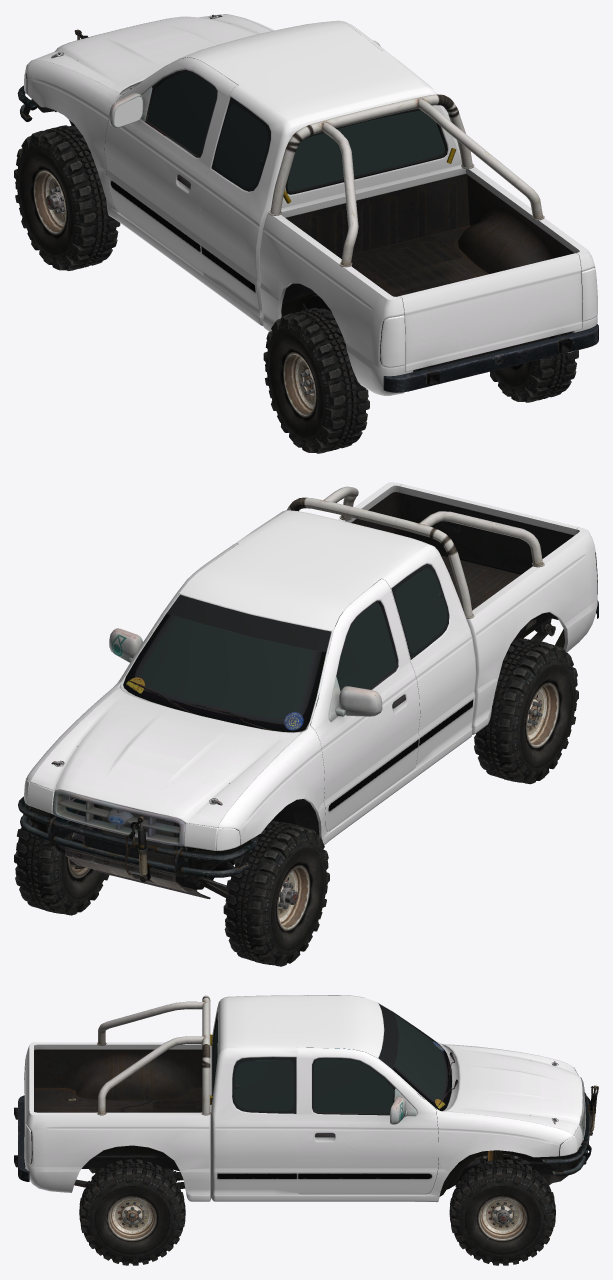
3 renders of one model, top to bottom at view 1: azimuth 30°, elevation 25°; view 2: azimuth 150°, elevation 25°; view 3: azimuth 270°, elevation 25°, orthographic. The views are drawn at different scales.
Parts seen in each view (by area): view 1: chassis, frame, door_lf, boot_ok, wheel_lb.002, wheel_lf.001, glass, bonnet, rollcage.001, bumper_rear, glass_lf, wheel_rb.001 (+2 smaller); view 2: chassis, bonnet, windscreen_ok.001, door_lf, wheel_lf.001, wheel_lb.002, frame, boot_ok, bumper_front_ok, wheel_rf.001, rollcage.001, glass (+6 smaller); view 3: chassis, door_rf, frame, wheel_rb.001, wheel_rf.001, bonnet, windscreen_ok.001, glass_rf, glass, rollcage.001, bumper_front_ok, glow (+2 smaller).
Part boxes in pixels (<box>): chassis: <box>26,14,597,395</box>; frame: <box>32,99,574,391</box>; door_lf: <box>104,57,238,273</box>; boot_ok: <box>399,253,582,371</box>; wheel_lb.002: <box>263,308,369,453</box>; wheel_lf.001: <box>14,125,120,270</box>; glass: <box>211,97,444,191</box>; bonnet: <box>33,14,271,93</box>; rollcage.001: <box>269,94,544,267</box>; bumper_rear: <box>383,324,598,392</box>; glass_lf: <box>152,72,216,155</box>; wheel_rb.001: <box>490,350,578,402</box>; chassis: <box>26,482,597,844</box>; bonnet: <box>30,687,301,827</box>; windscreen_ok.001: <box>123,594,331,732</box>; door_lf: <box>310,578,420,831</box>; wheel_lf.001: <box>223,820,329,966</box>; wheel_lb.002: <box>474,638,578,784</box>; frame: <box>30,492,564,899</box>; boot_ok: <box>399,484,578,574</box>; bumper_front_ok: <box>18,796,256,882</box>; wheel_rf.001: <box>14,806,109,915</box>; rollcage.001: <box>287,486,544,618</box>; glass: <box>391,564,449,659</box>; chassis: <box>24,995,573,1202</box>; door_rf: <box>297,1047,438,1194</box>; frame: <box>14,1049,581,1196</box>; wheel_rb.001: <box>79,1159,185,1265</box>; wheel_rf.001: <box>449,1159,555,1265</box>; bonnet: <box>445,1045,582,1135</box>; windscreen_ok.001: <box>378,1003,451,1111</box>; glass_rf: <box>313,1059,393,1113</box>; glass: <box>213,1017,296,1113</box>; rollcage.001: <box>97,995,212,1115</box>; bumper_front_ok: <box>530,1085,598,1176</box>; glow: <box>24,1055,582,1164</box>.
Size of the model in its own units: 223 by 216 by 561.
